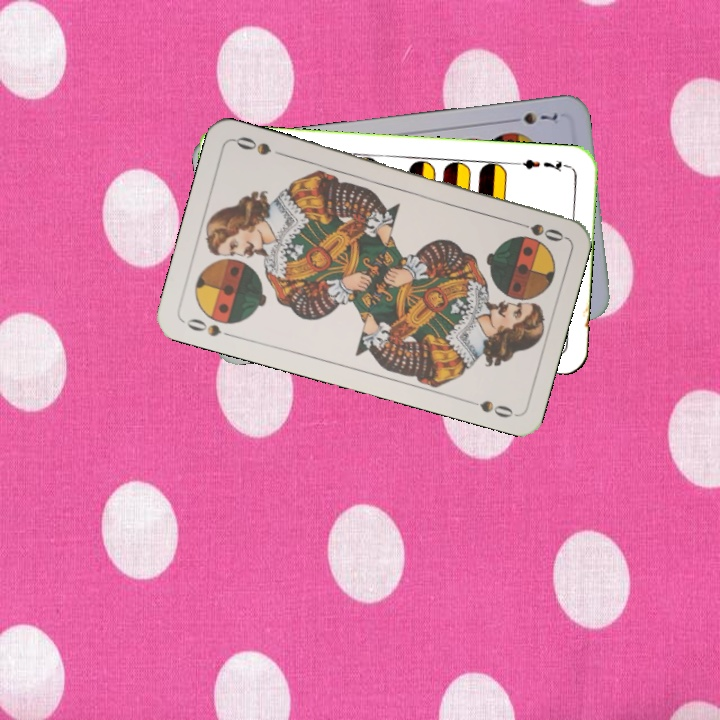E7: (513, 155, 572, 175)
S7: (504, 108, 560, 127)
SO: (509, 216, 567, 245), (179, 314, 238, 341)
